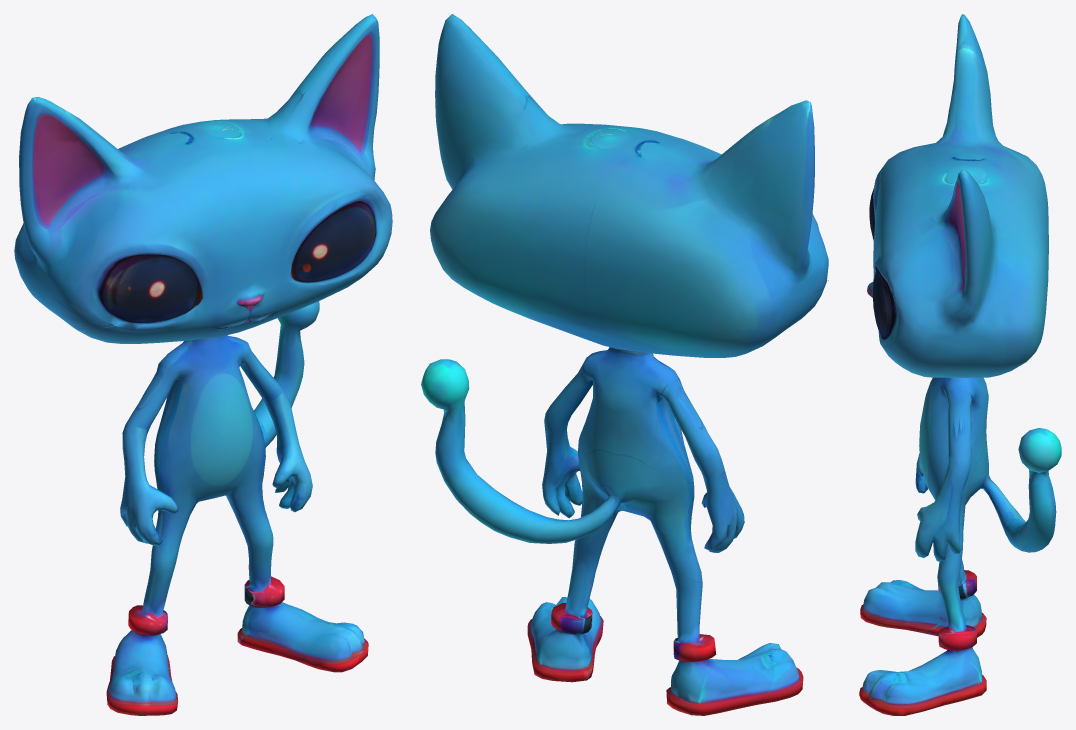
File: cat_hipHop_dance.fbx
The picture shows the model from 3 angles, left to right: view 1: azimuth 30°, elevation 25°; view 2: azimuth 150°, elevation 25°; view 3: azimuth 270°, elevation 25°; orthographic projection. The views are drawn at different scales.
Visible parts, largest first — view 1: Mesh_0.001; view 2: Mesh_0.001; view 3: Mesh_0.001.
Part boxes in pixels (x1=…): Mesh_0.001: x1=14, y1=14, x2=392, y2=715; Mesh_0.001: x1=421, y1=14, x2=828, y2=715; Mesh_0.001: x1=859, y1=14, x2=1061, y2=715.
Size of the model in its own units: 1252 by 2001 by 649.
1 material, 1 textured.
